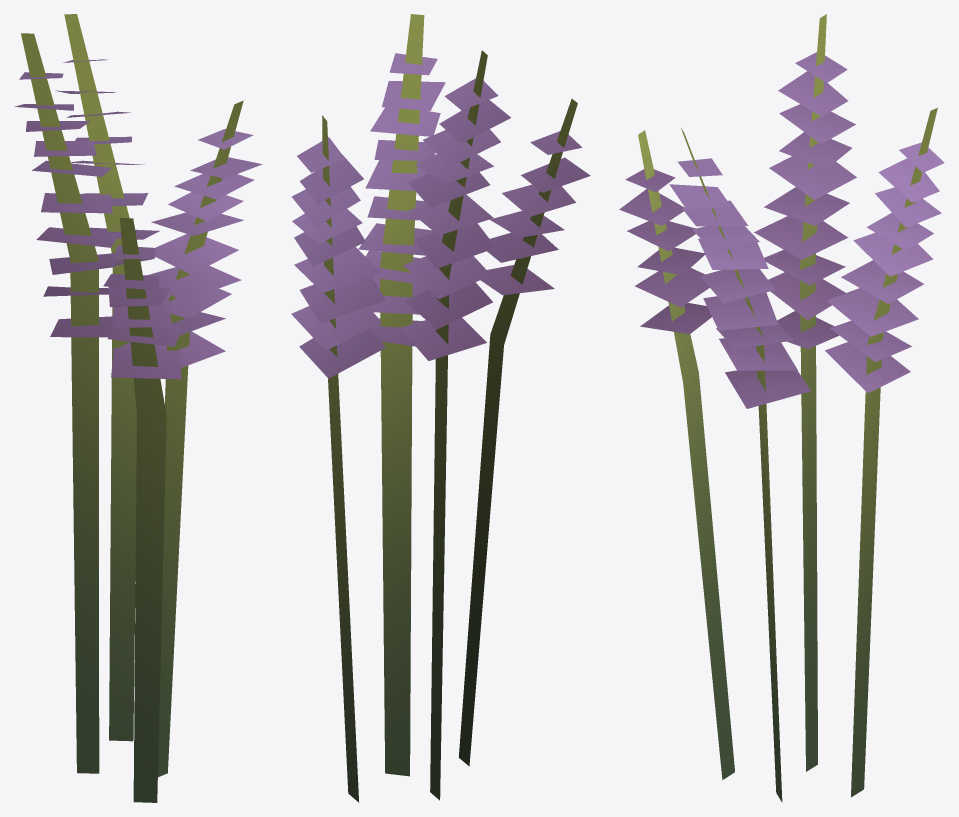
Rendered from lavender.glb.
3 views of the same model, side by side, from view 1: azimuth 30°, elevation 25°; view 2: azimuth 150°, elevation 25°; view 3: azimuth 270°, elevation 25° (orthographic). The views are drawn at different scales.
Parts seen in each view (by area): view 1: Lavender; view 2: Lavender; view 3: Lavender.
Boxes of the visible parts, left/top/right/bottom form: Lavender: left=14, top=14, right=262, bottom=802; Lavender: left=291, top=14, right=590, bottom=802; Lavender: left=619, top=14, right=944, bottom=802.
Size of the model in its own units: 0.2183 by 0.8506 by 0.3438.
2 materials, 2 textured.
